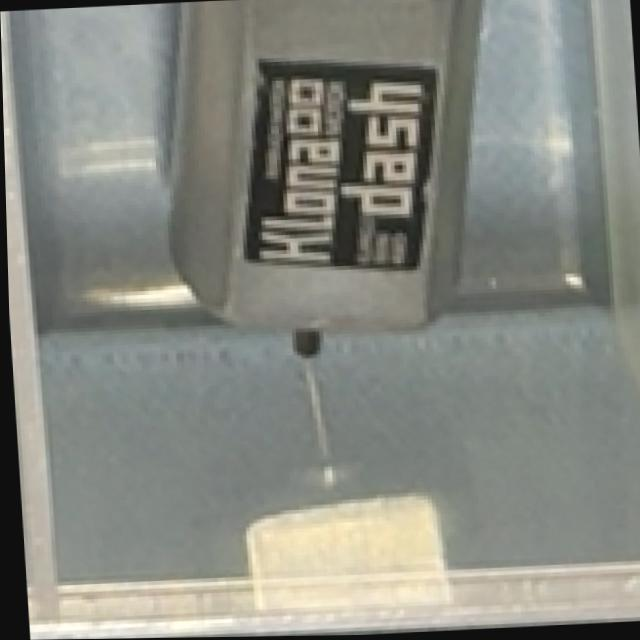Motor: (157, 0, 510, 346)
